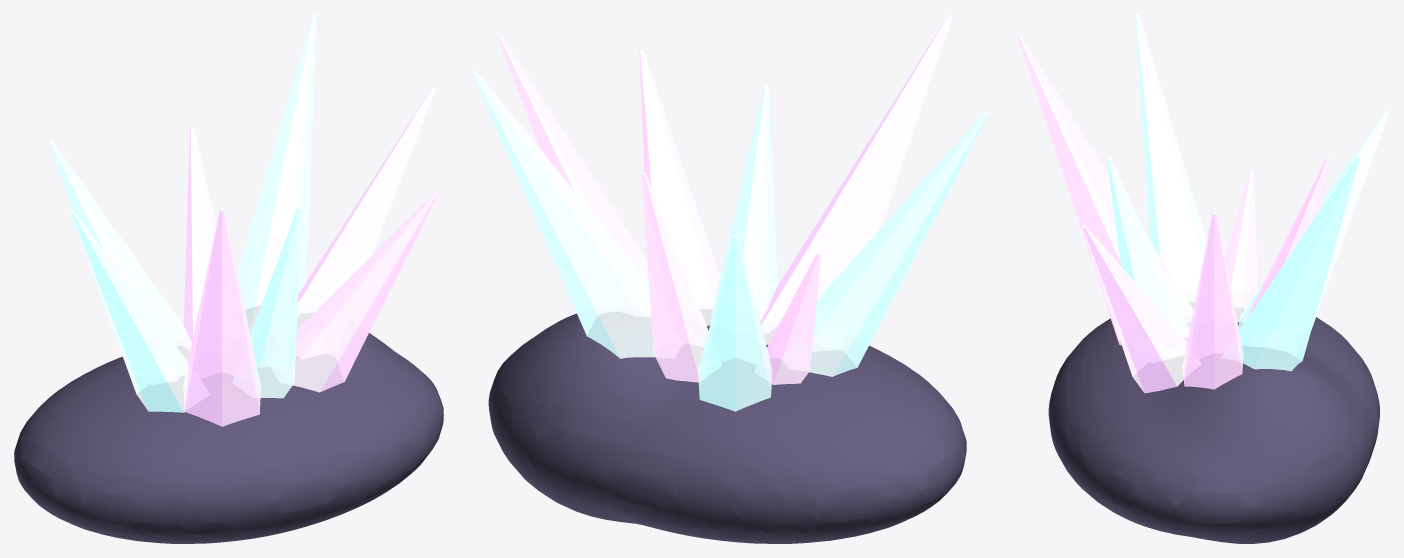
File: E34_Glow_Crystal_Neuron.glb
3 views of the same model, side by side, from view 1: azimuth 30°, elevation 25°; view 2: azimuth 150°, elevation 25°; view 3: azimuth 270°, elevation 25° (orthographic). The views are drawn at different scales.
Visible parts, largest first — view 1: E34_Glow_Crystal_Neuron_Mesh; view 2: E34_Glow_Crystal_Neuron_Mesh; view 3: E34_Glow_Crystal_Neuron_Mesh.
Part boxes in pixels (<box>): E34_Glow_Crystal_Neuron_Mesh: <box>14,14,443,543</box>; E34_Glow_Crystal_Neuron_Mesh: <box>472,14,988,543</box>; E34_Glow_Crystal_Neuron_Mesh: <box>1017,14,1389,543</box>.
Size of the model in its own units: 4.57 by 4.43 by 3.59.
